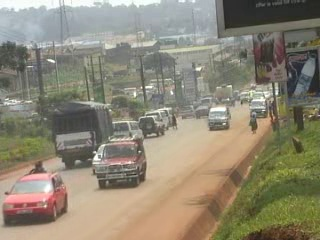Car: (2, 170, 70, 227), (95, 134, 149, 189), (134, 115, 167, 139), (88, 139, 108, 174), (192, 105, 211, 119), (181, 104, 197, 120)
Motorcycle: (28, 159, 47, 174)
